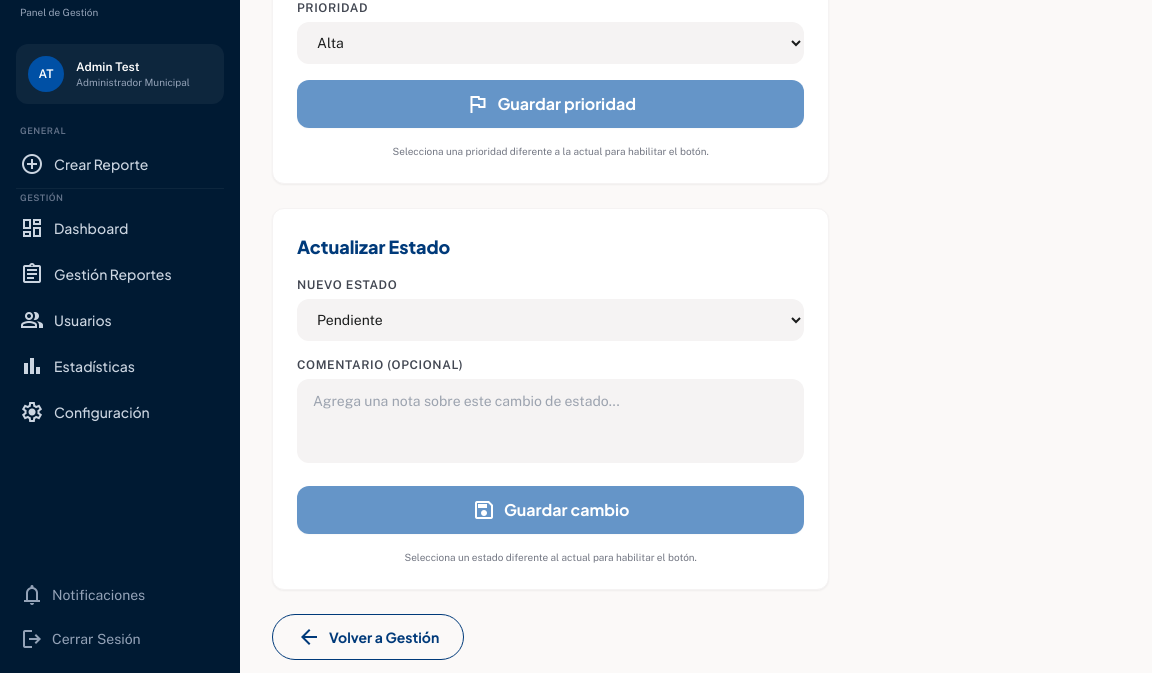
Test case: CP-GESTION — Gestión de Denuncias (Municipal) › CP-GESTION-001: error de API muestra mensaje de error
(page scrolled)
Select "En Proceso" in the dropdown below "Nuevo estado": (551, 320) [297,298,804,340]
(page scrolled)
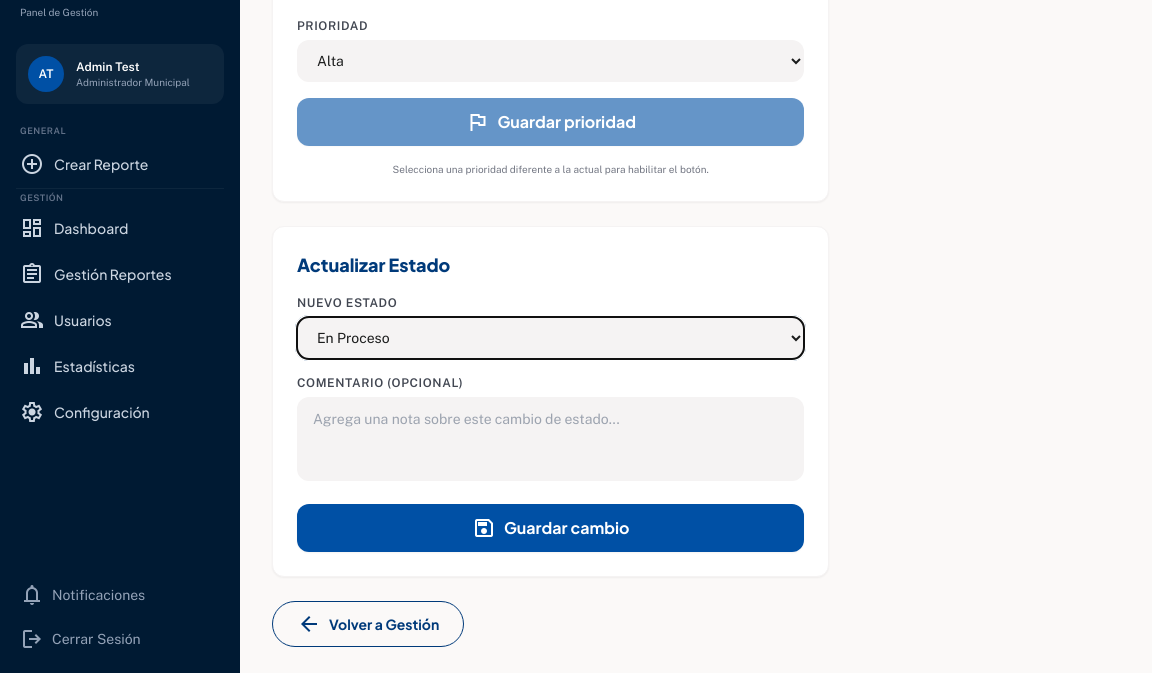
Click the button "Guardar cambio": (551, 528) [297,504,804,552]
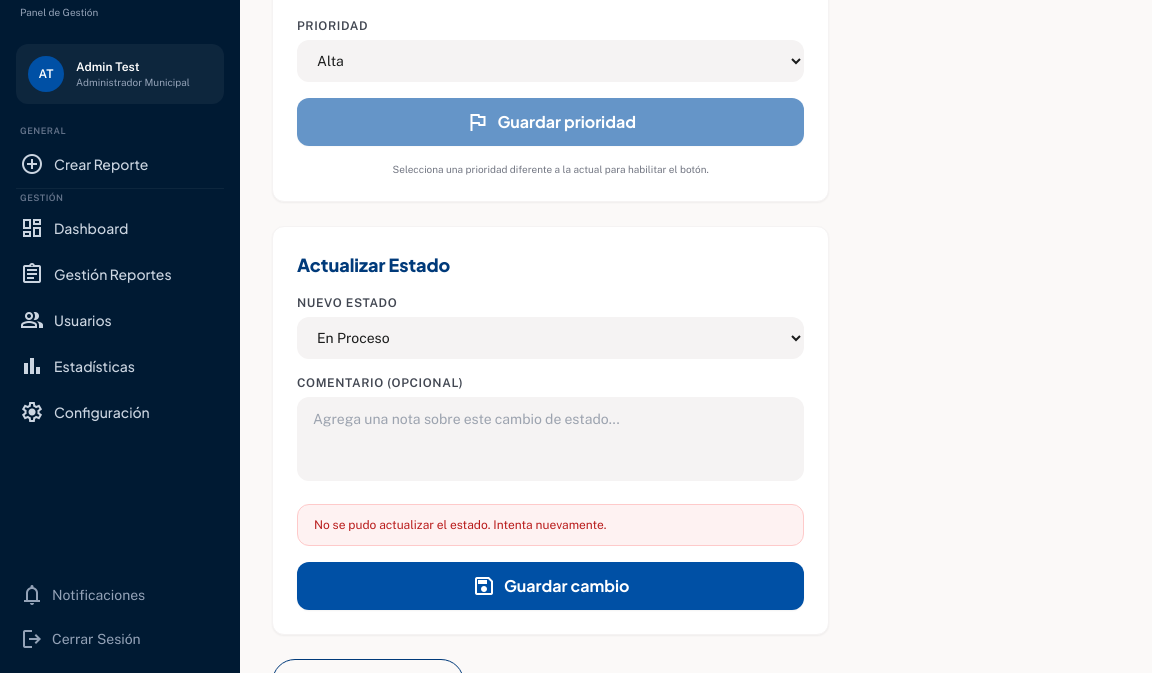
Check: the text "No se pudo actualizar el estado. Intenta nuevamente." is shown, box [297,504,804,546]
